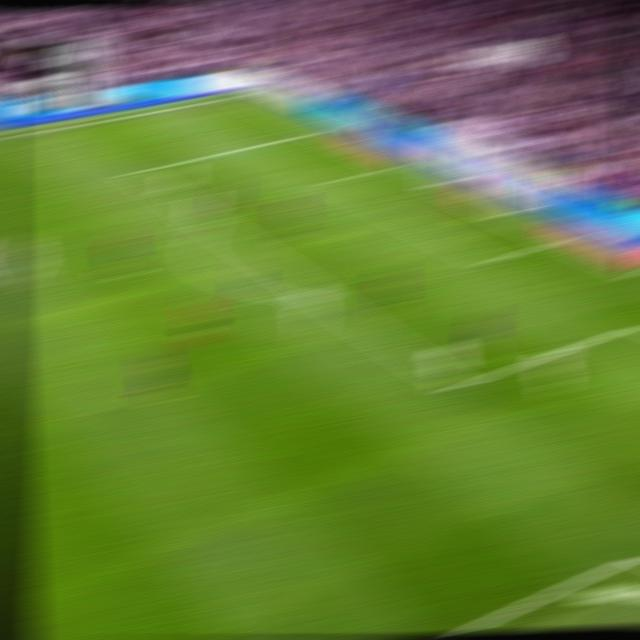bigarea_bottom_inner: (444, 378, 470, 396)
bigarea_top_inner: (123, 166, 148, 178)
bigarea_top_outter: (302, 123, 328, 135)
corner: (226, 92, 252, 99)
smallarea_top_inner: (322, 177, 345, 186)
top_arc_area_intersection: (198, 216, 222, 228)
